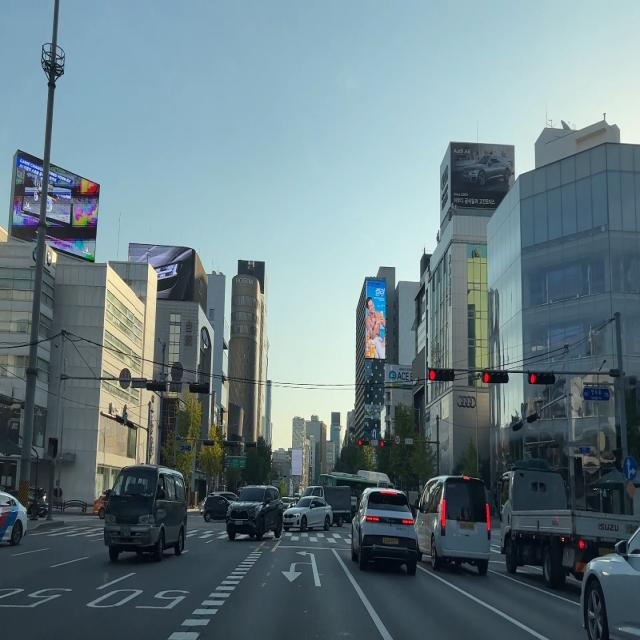Red Light: (428, 368, 436, 381), (484, 371, 491, 383), (530, 372, 536, 384)
